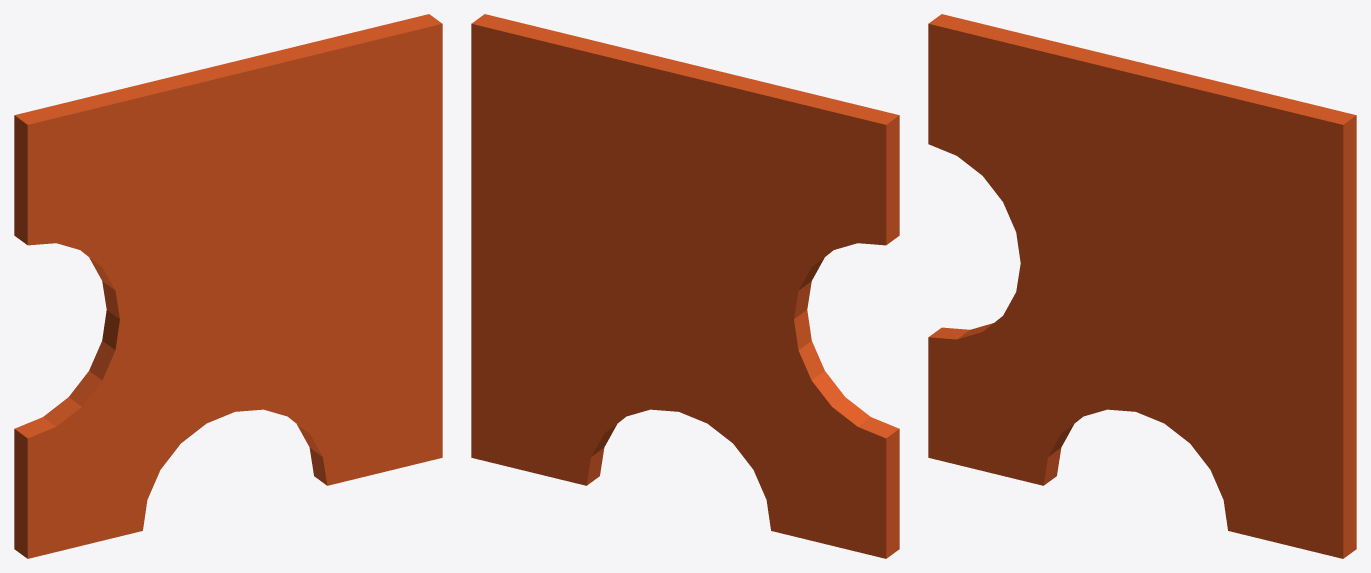
The model's file is tinker.obj.
3 renders of one model, left to right at view 1: azimuth 30°, elevation 25°; view 2: azimuth 150°, elevation 25°; view 3: azimuth 330°, elevation 25°, orthographic.
Visible parts, largest first — view 1: obj_0; view 2: obj_0; view 3: obj_0.
Part boxes in pixels (x1,y1,x2,y2): obj_0: (14, 14, 442, 558); obj_0: (471, 14, 899, 558); obj_0: (928, 14, 1356, 558).
Bounding box in the file's own units: 18 × 18 × 1.
